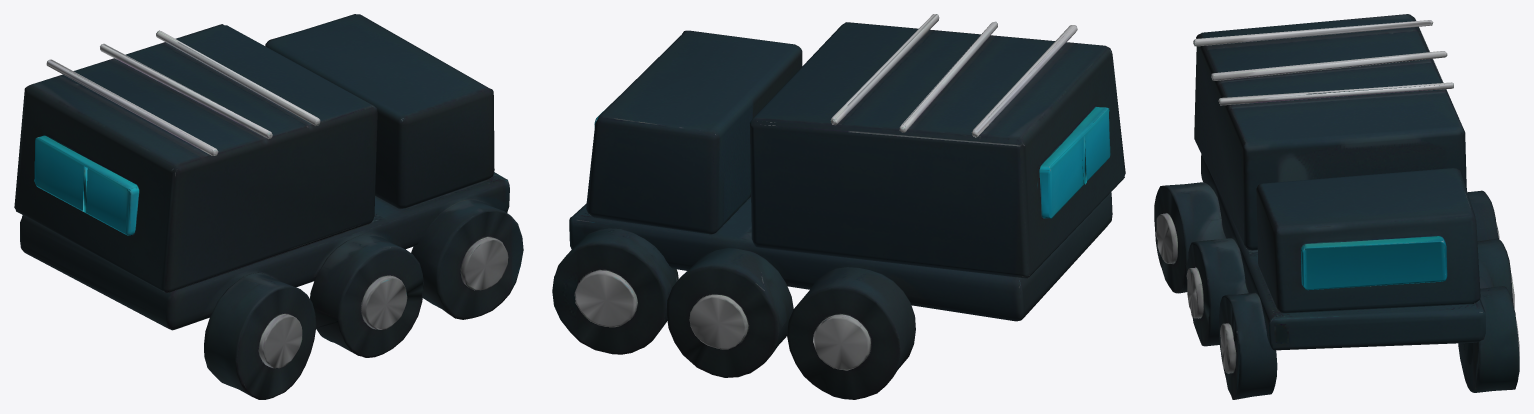
The model's file is cargo-truck.glb.
The picture shows the model from 3 angles, left to right: view 1: azimuth 30°, elevation 25°; view 2: azimuth 150°, elevation 25°; view 3: azimuth 270°, elevation 25°; orthographic projection. The views are drawn at different scales.
Size of the model in its own units: 1 by 0.5879 by 0.8379.
Materials: 1 (1 with a texture image).
